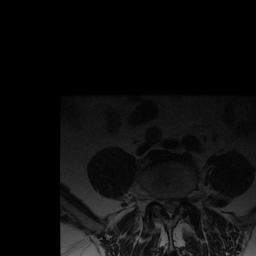CCS_normal: (167, 194, 173, 222)
LFS_severe_stenosis: (180, 190, 186, 207)
LLS_normal: (173, 194, 179, 214)
RFS_stenosis: (154, 191, 160, 208)
RLS_stenosis: (160, 194, 167, 213)
